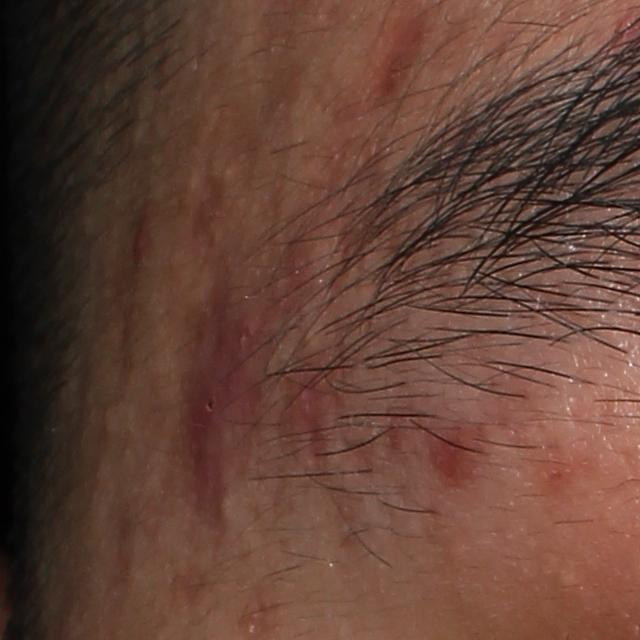atrophic_scar: (172, 105, 258, 316), (354, 2, 429, 113), (91, 471, 136, 586)
comedo: (210, 494, 235, 524)
papule: (132, 219, 152, 258)
